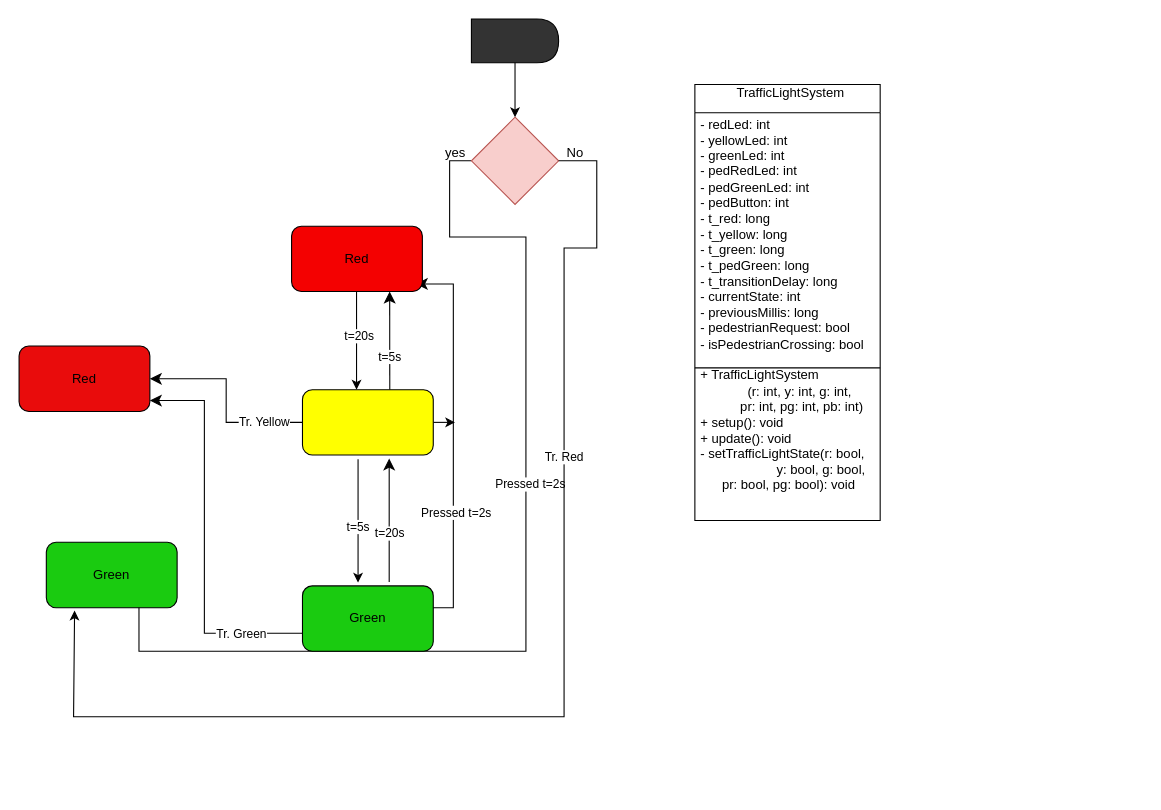
Some shapes in this 1161 by 810 pixel diagram are drawn without their labels. The shapes that lost their labels are listed below. From the top down, each one's centre as x and y in pixels, then its label:
At (x=514, y=40): "Push Button".
At (x=367, y=422): "Yellow".
